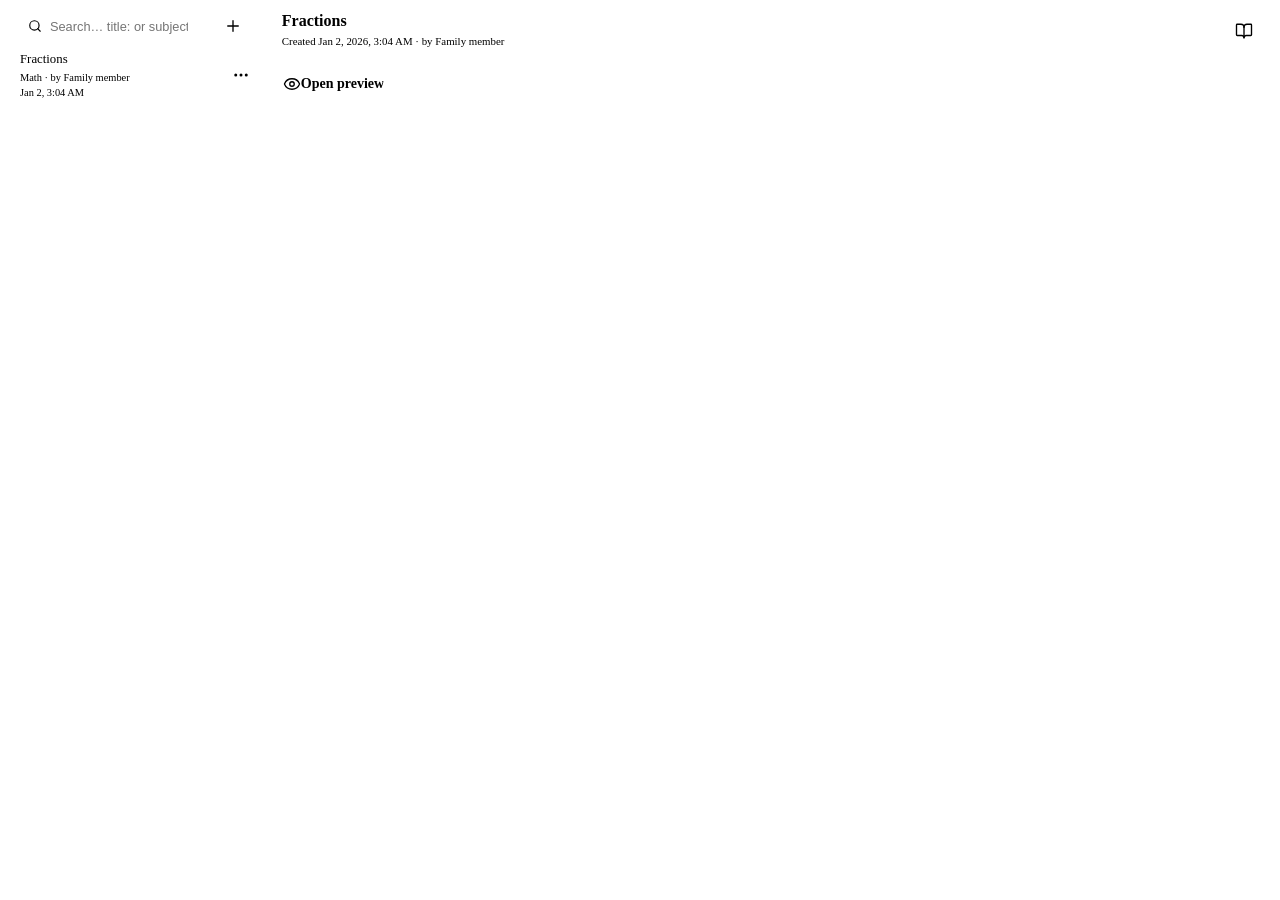
Test: never shows question text generated by the server as instructions
Click the button "Fractions Math · by Family member Jan 2, 3:04 AM" at (117, 75), box [8, 44, 227, 107]
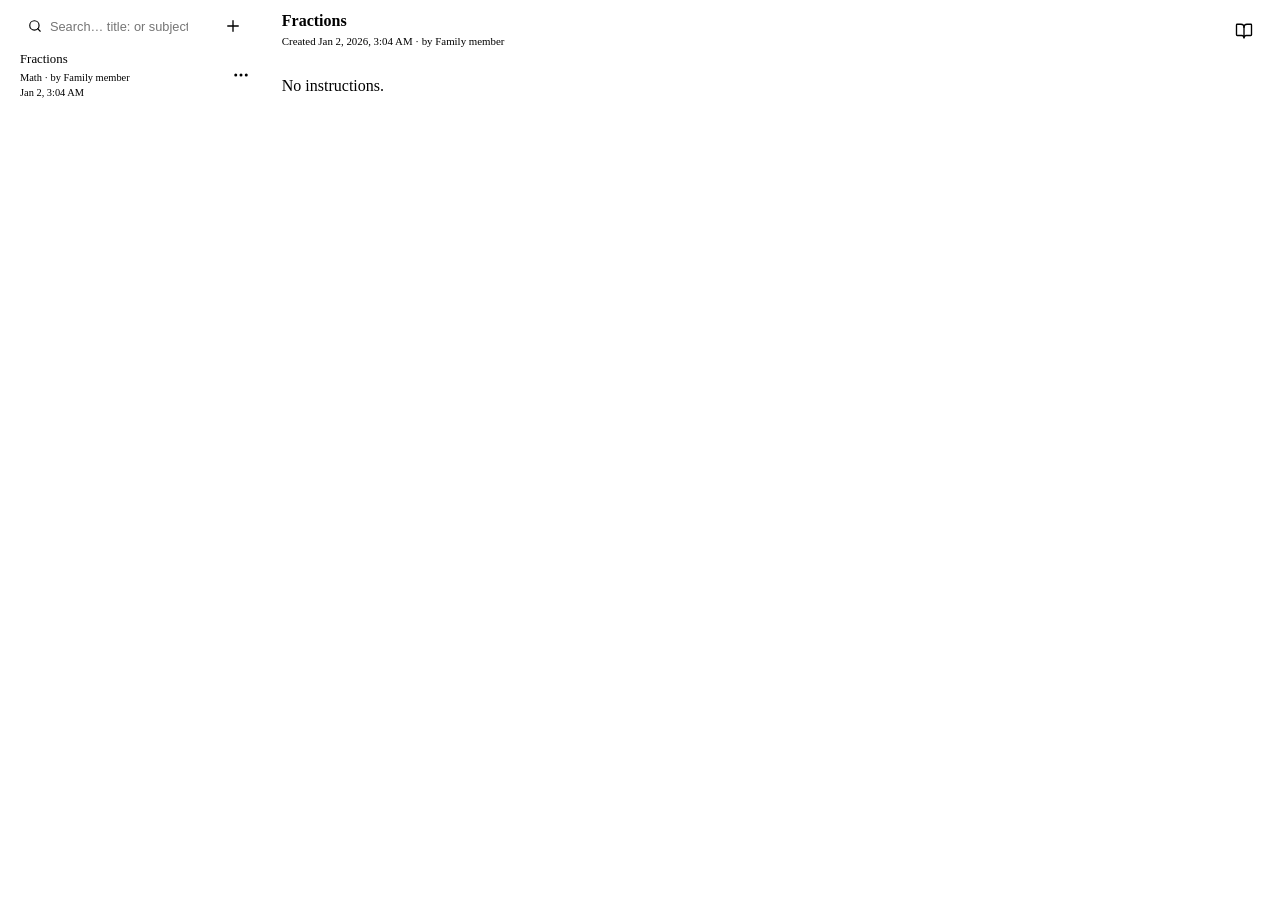
Expected: the text "No instructions." is shown, [282, 77, 384, 94]
Click the button named "Actions for Fractions" at (241, 75), box [227, 59, 255, 91]
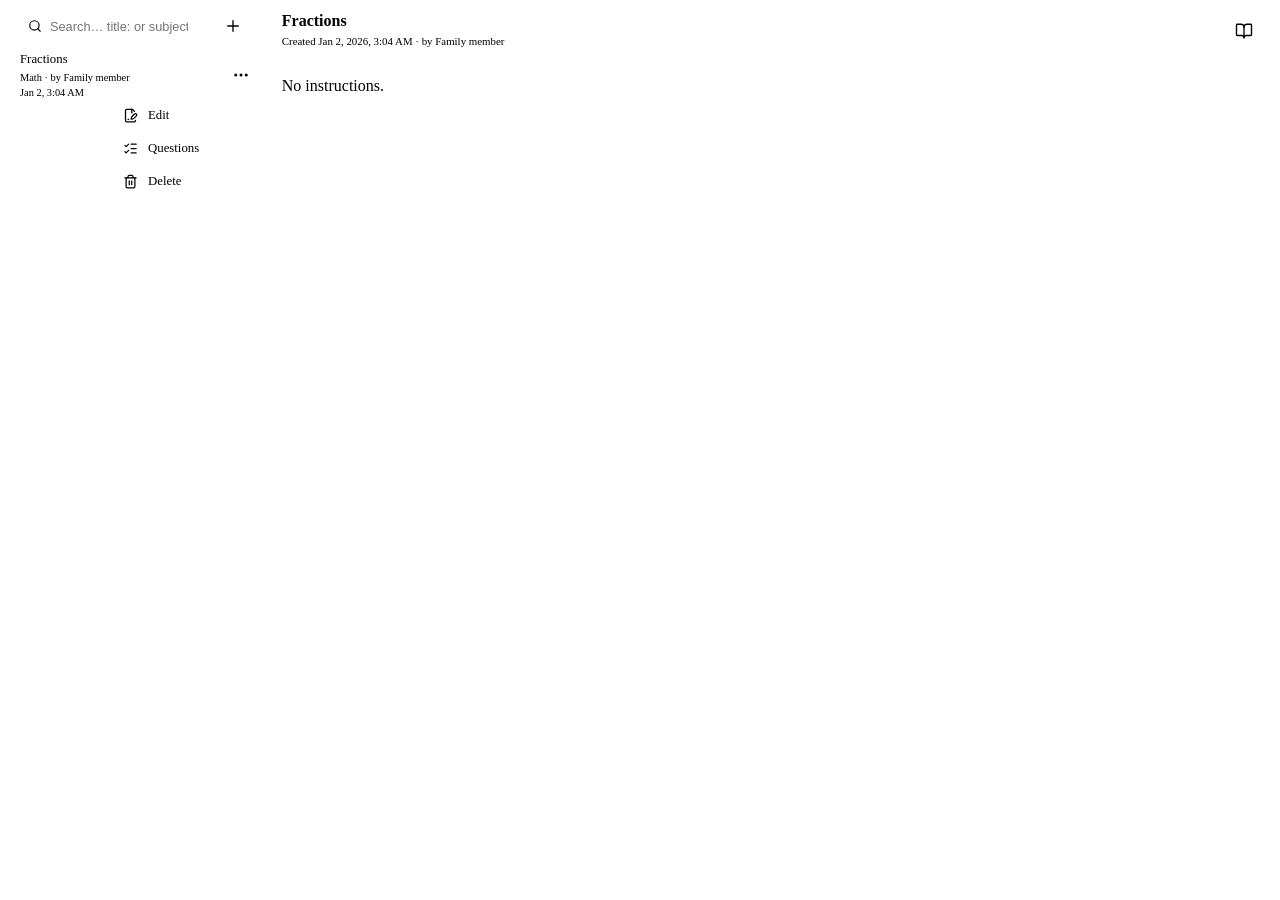
Click the menu item "Edit" at (146, 116), box [123, 108, 169, 123]
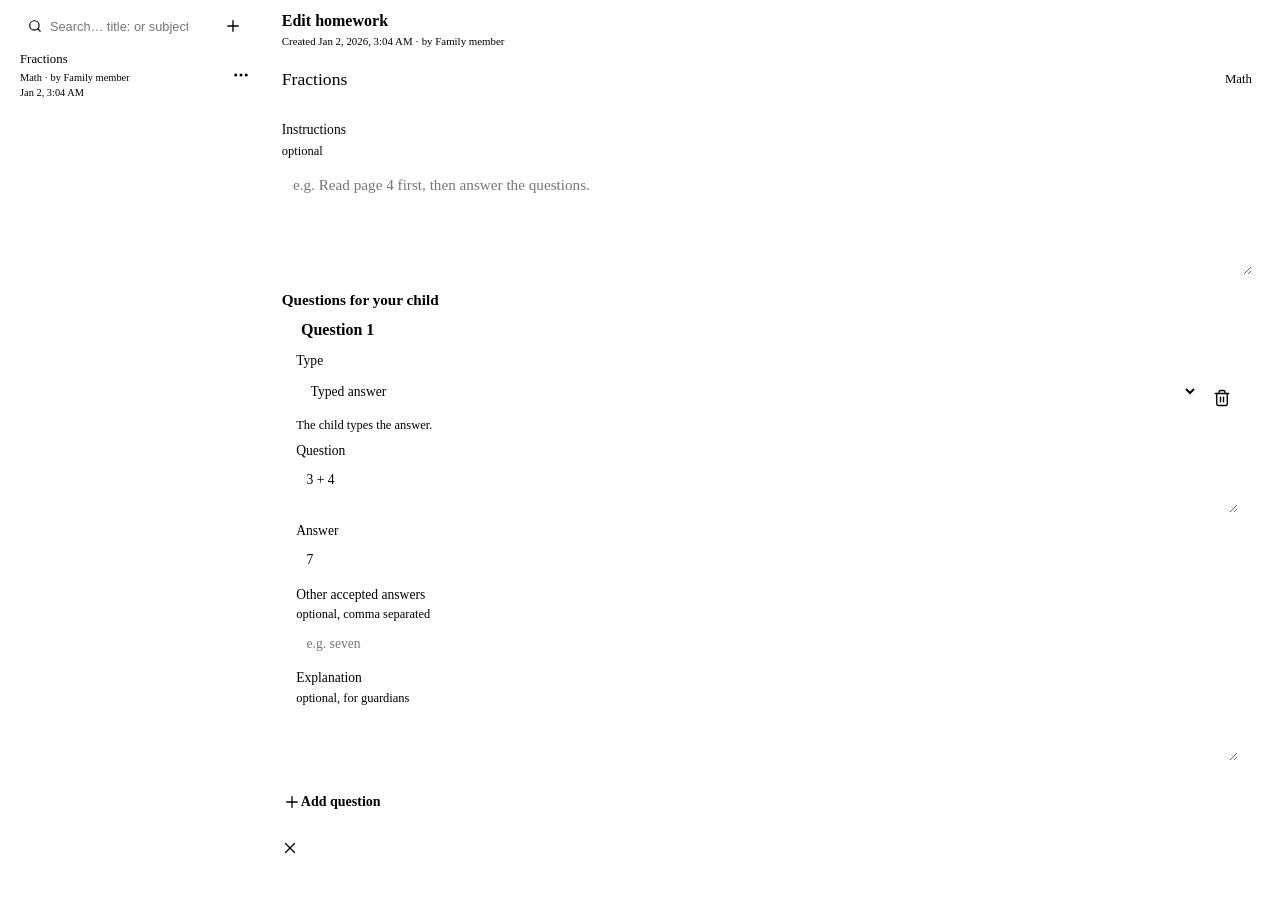
Expected: the text box named "Homework instructions" is empty, [282, 164, 1252, 275]
Expected: the text box labelled "Question" holds "3 + 4", [296, 464, 1238, 513]
